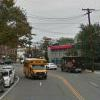Bus: (20, 54, 48, 82)
